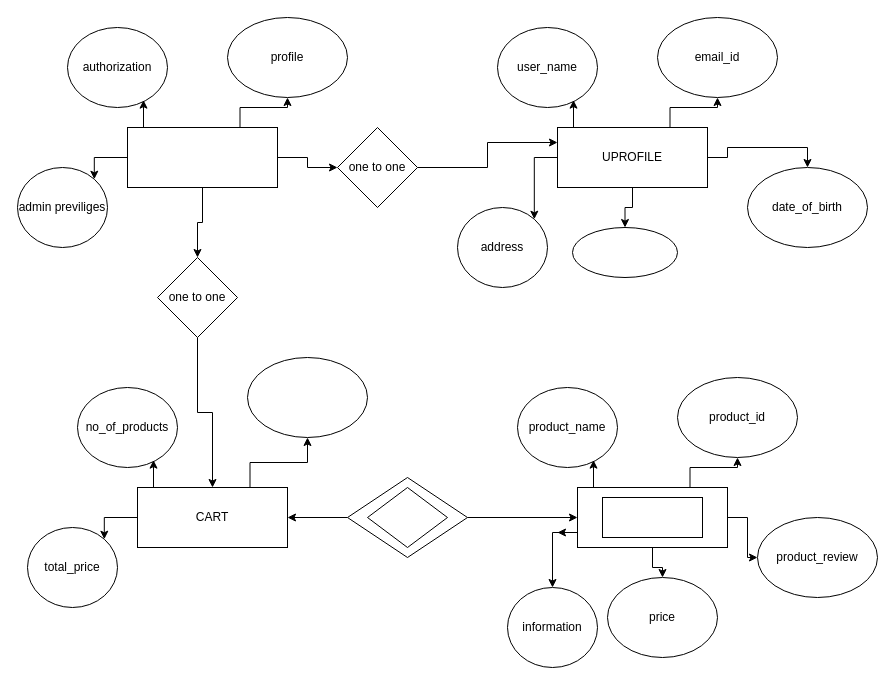
Some shapes in this 895 by 685 pixel diagram are drawn without their labels. The shapes that lost their labels are listed below. From the top down, each one's centre as x and y in pixels, then its label:
the point at 202,157: USERS
the point at 625,252: contact_no
the point at 307,397: cart_id
the point at 407,517: one to many
the point at 652,517: PRODUCTS
